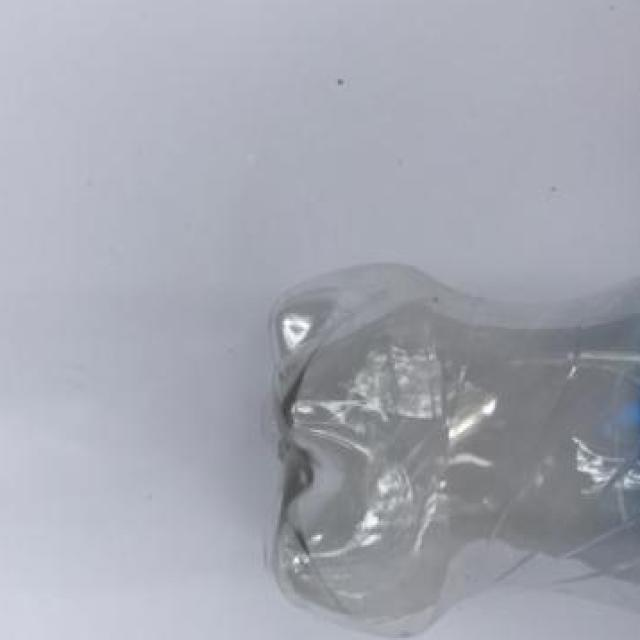organic: (227, 218, 636, 622)
